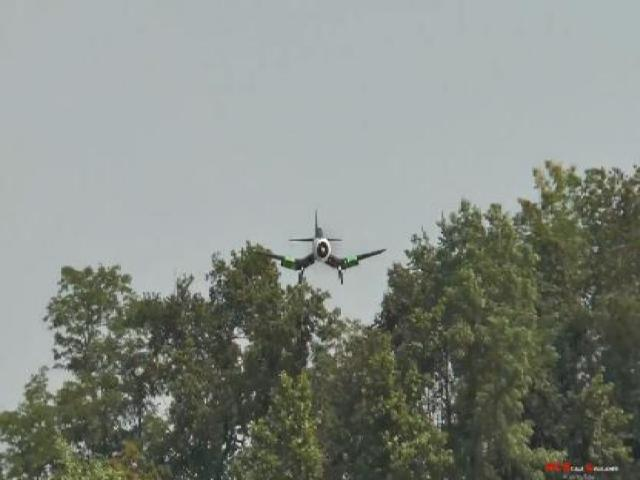uav: (243, 206, 392, 288)
